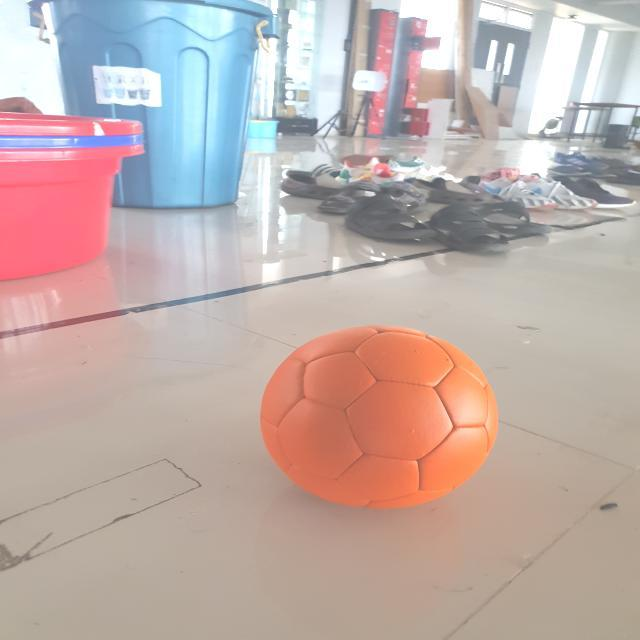bola: (256, 322, 507, 520)
